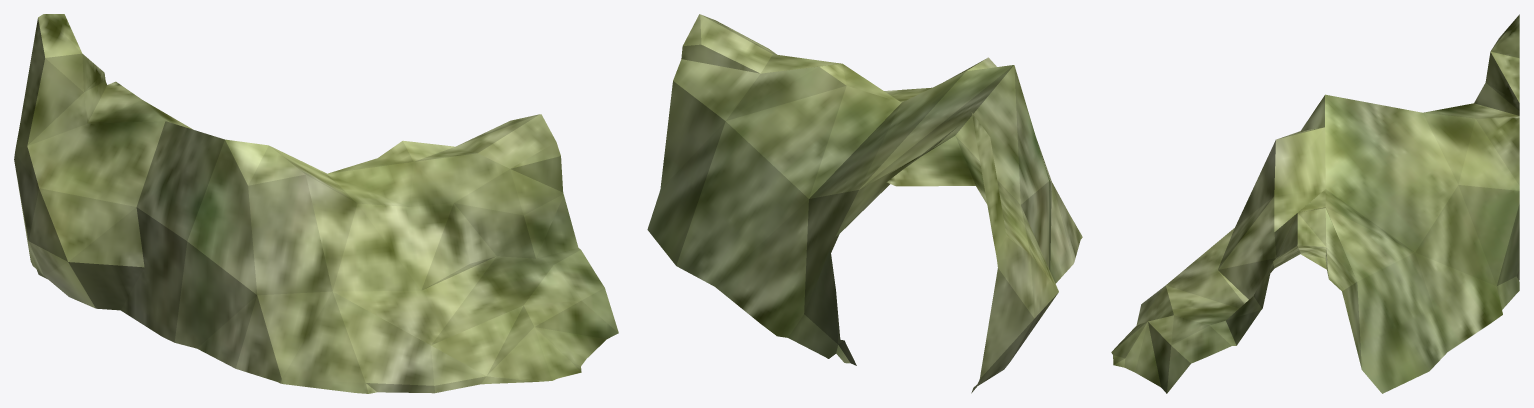
3 renders of one model, left to right at view 1: azimuth 30°, elevation 25°; view 2: azimuth 150°, elevation 25°; view 3: azimuth 270°, elevation 25°, orthographic. The views are drawn at different scales.
Size of the model in its own units: 1.24 by 0.75 by 1.24.
1 material, 1 textured.
